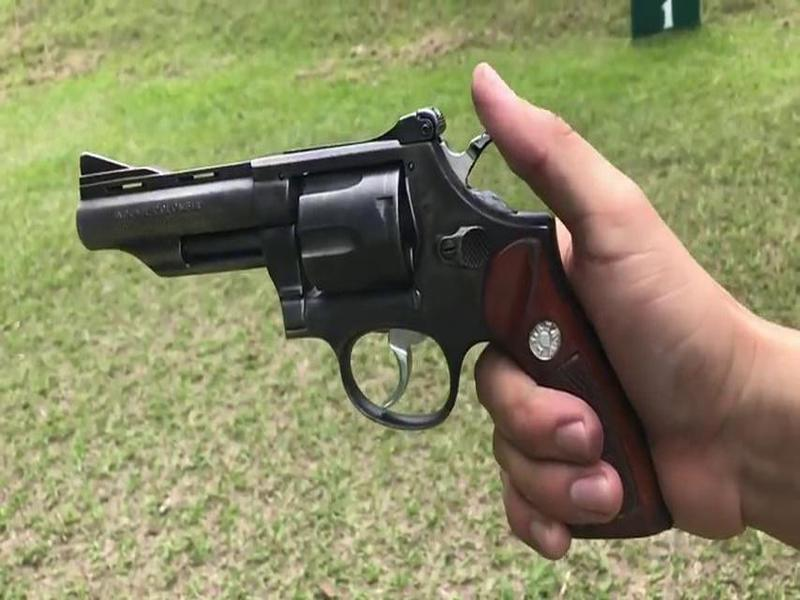Revolver: (53, 94, 607, 435)
